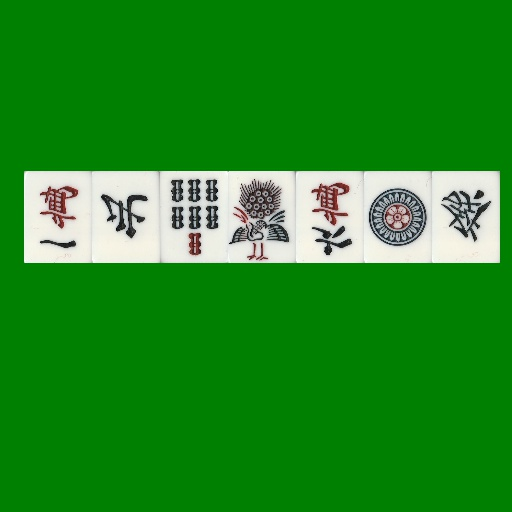1m: (24, 171, 92, 263)
1p: (364, 171, 432, 263)
1s: (228, 171, 296, 263)
6m: (296, 171, 364, 263)
7s: (160, 171, 228, 263)
hatsu: (432, 171, 500, 263)
north: (92, 171, 160, 263)
